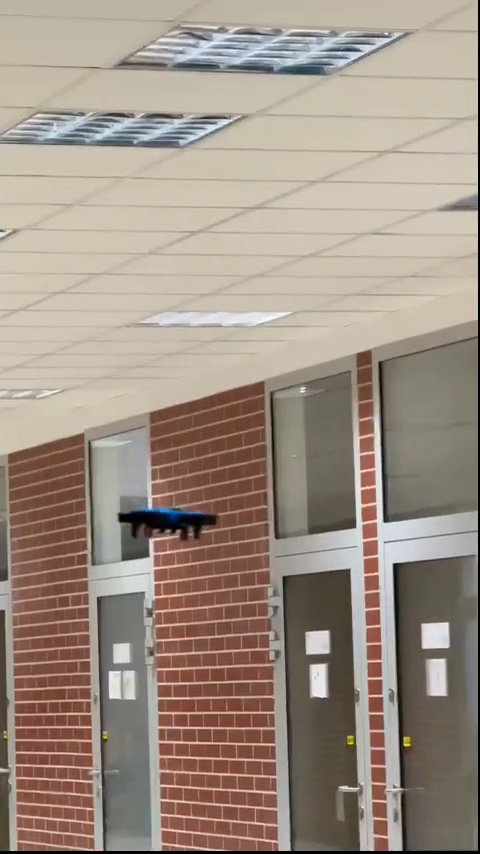drone: (110, 509, 231, 539)
